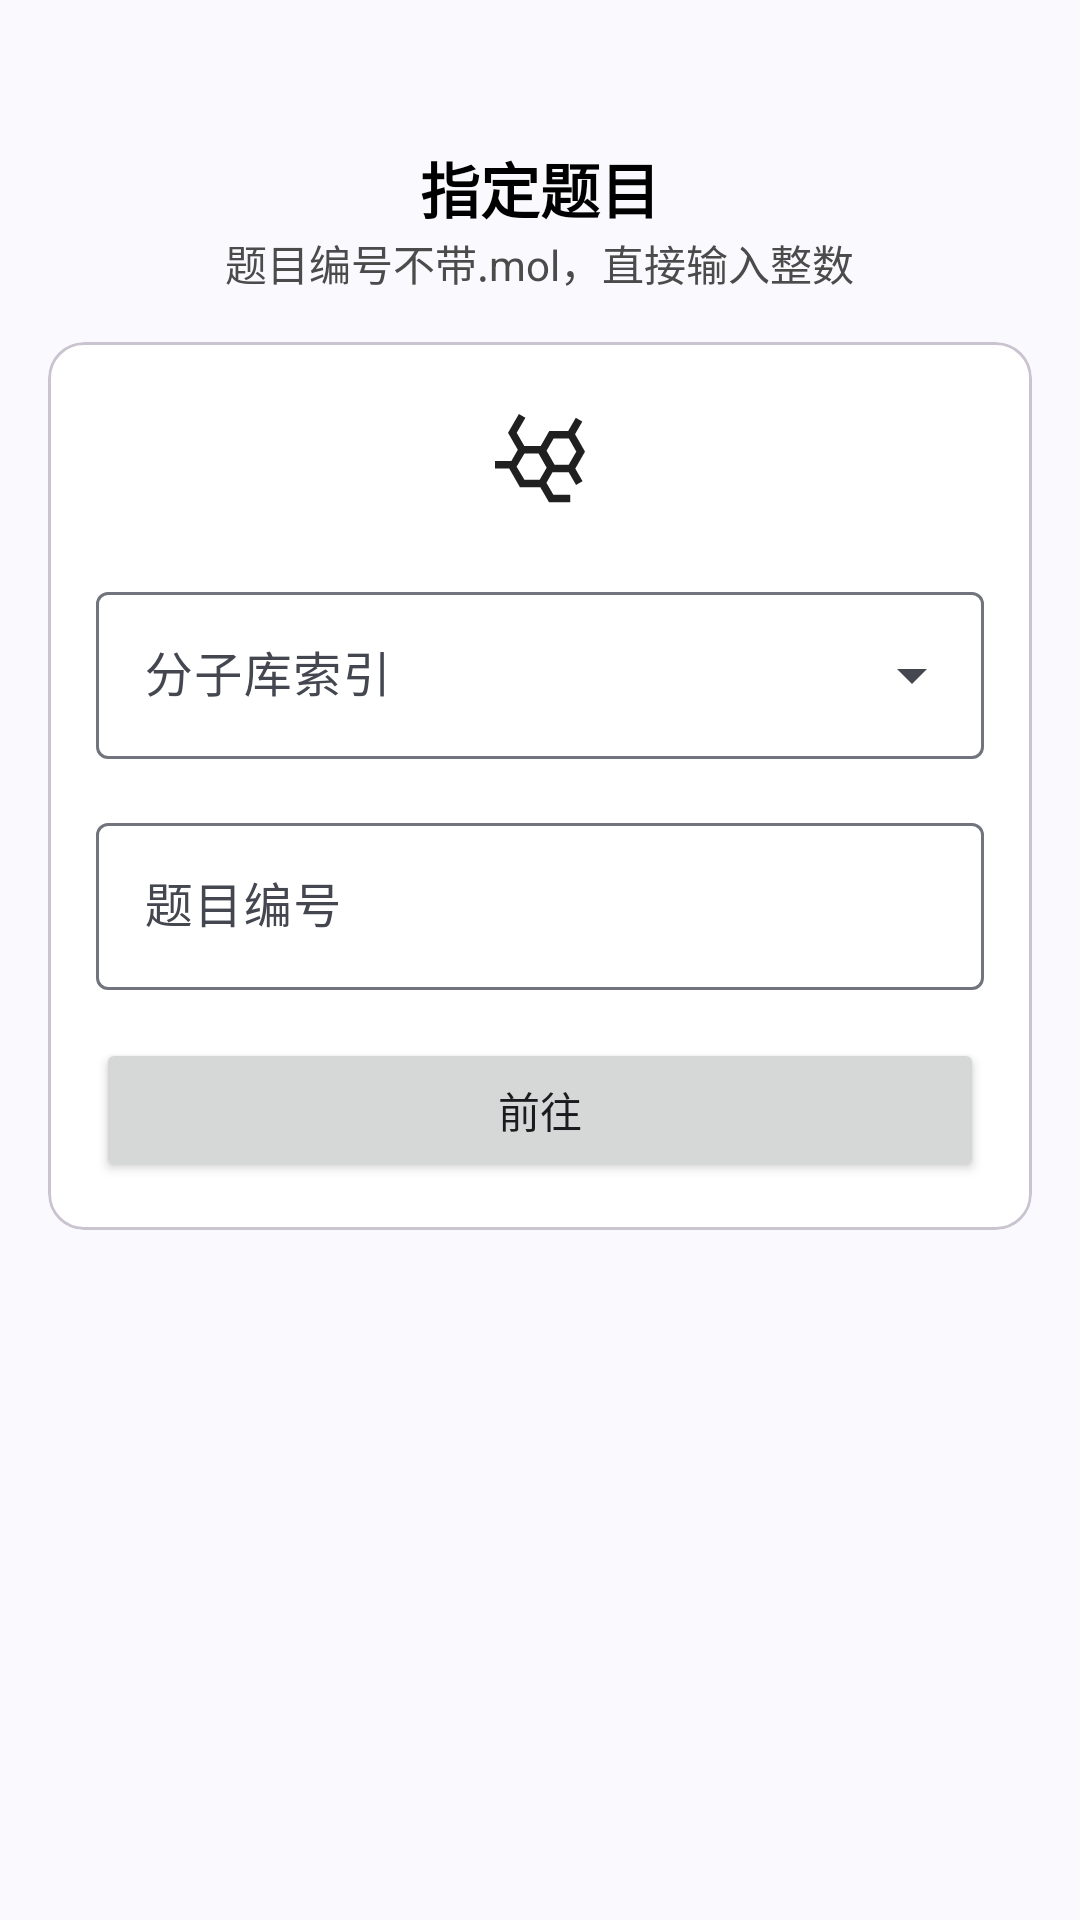

Icons on this 1080w x 1920h Android screen, each with its box as (x1, y1, x2, y2):
molecule: (495, 414, 585, 503)
